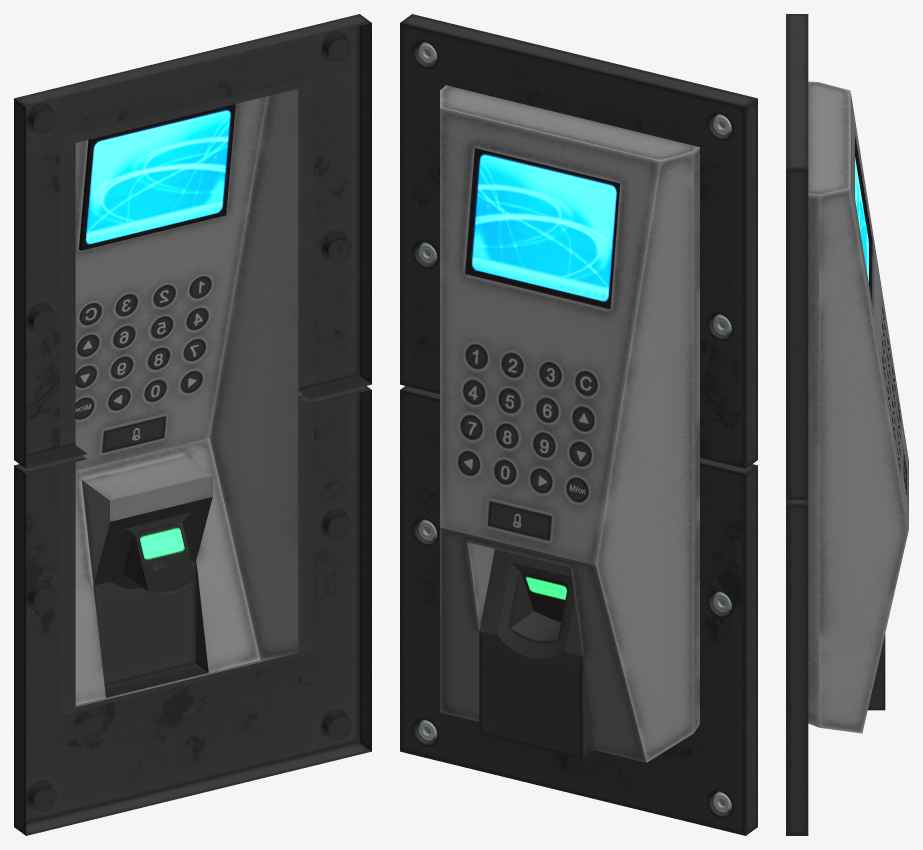
Rendered from SM_DoorPannel.fbx.
3 views of the same model, side by side, from view 1: azimuth 30°, elevation 25°; view 2: azimuth 150°, elevation 25°; view 3: azimuth 270°, elevation 25° (orthographic). The views are drawn at different scales.
Parts seen in each view (by area): view 1: SM_DoorPannel_LOD0; view 2: SM_DoorPannel_LOD0; view 3: SM_DoorPannel_LOD0.
Part boxes in pixels (x1,y1,x2,y2): SM_DoorPannel_LOD0: [14, 14, 371, 835]; SM_DoorPannel_LOD0: [400, 14, 757, 835]; SM_DoorPannel_LOD0: [786, 14, 908, 835].
Size of the model in its own units: 20.31 by 6.82 by 40.91.
1 material, 1 textured.
